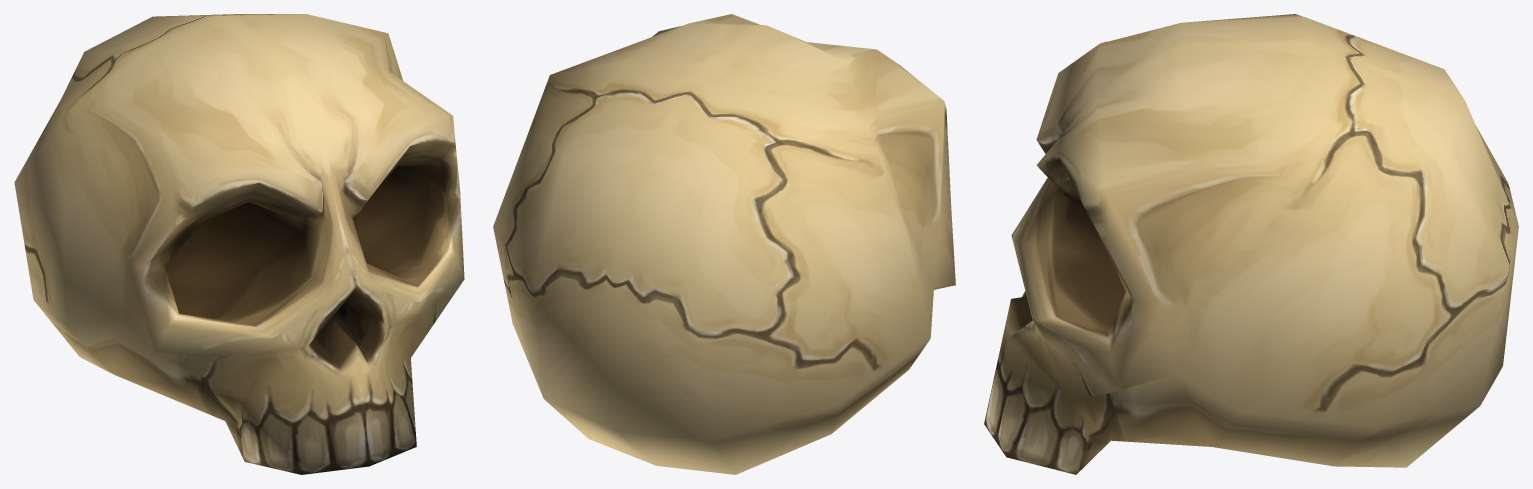
The model's file is SM_PROP_skeleton_skull_01.fbx.
The picture shows the model from 3 angles, left to right: view 1: azimuth 30°, elevation 25°; view 2: azimuth 150°, elevation 25°; view 3: azimuth 270°, elevation 25°; orthographic projection. The views are drawn at different scales.
Visible parts, largest first — view 1: SM_PROP_skeleton_skull_01; view 2: SM_PROP_skeleton_skull_01; view 3: SM_PROP_skeleton_skull_01.
Boxes of the visible parts, x1,y1,x2,y2 form: SM_PROP_skeleton_skull_01: (14, 14, 464, 474); SM_PROP_skeleton_skull_01: (493, 14, 955, 474); SM_PROP_skeleton_skull_01: (984, 14, 1518, 474).
Bounding box in the file's own units: 67.92 × 61.12 × 75.93.
